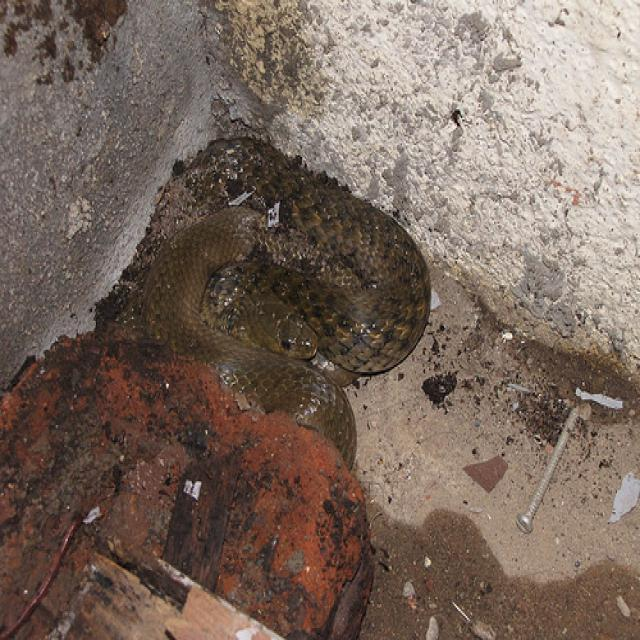Snake: (140, 134, 432, 469)
